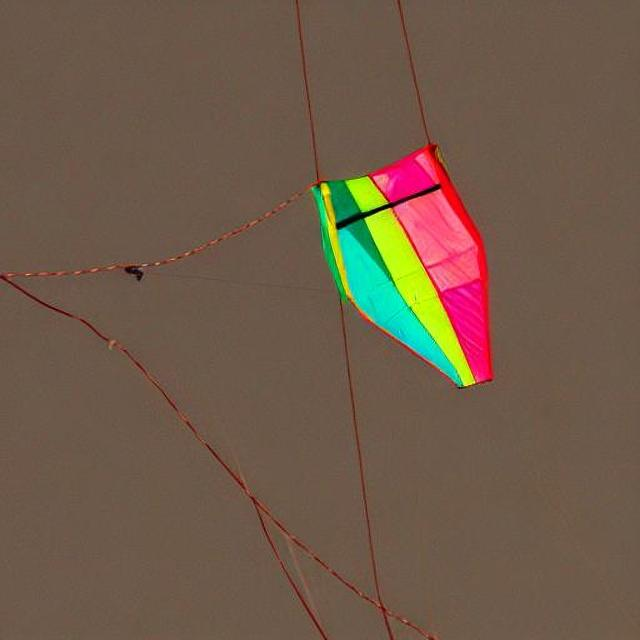floating object: (306, 145, 492, 388)
